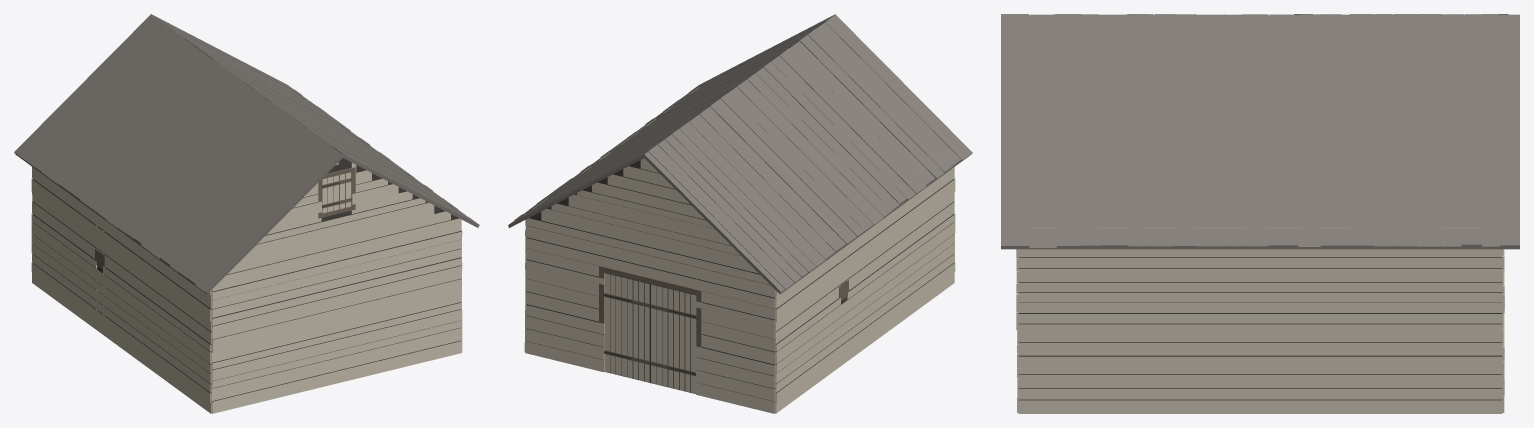
The model's file is recon_1835_north_a2_096__inferred_1835.glb.
3 views of the same model, side by side, from view 1: azimuth 30°, elevation 25°; view 2: azimuth 150°, elevation 25°; view 3: azimuth 270°, elevation 25° (orthographic). The views are drawn at different scales.
Parts seen in each view (by area): view 1: recon_1835_north_a2_096__inferred_1835; view 2: recon_1835_north_a2_096__inferred_1835; view 3: recon_1835_north_a2_096__inferred_1835.
Boxes of the visible parts, x1,y1,x2,y2 form: recon_1835_north_a2_096__inferred_1835: [14, 14, 479, 413]; recon_1835_north_a2_096__inferred_1835: [508, 14, 972, 413]; recon_1835_north_a2_096__inferred_1835: [1001, 14, 1519, 413].
Size of the model in its own units: 8.65 by 7.03 by 10.44.
